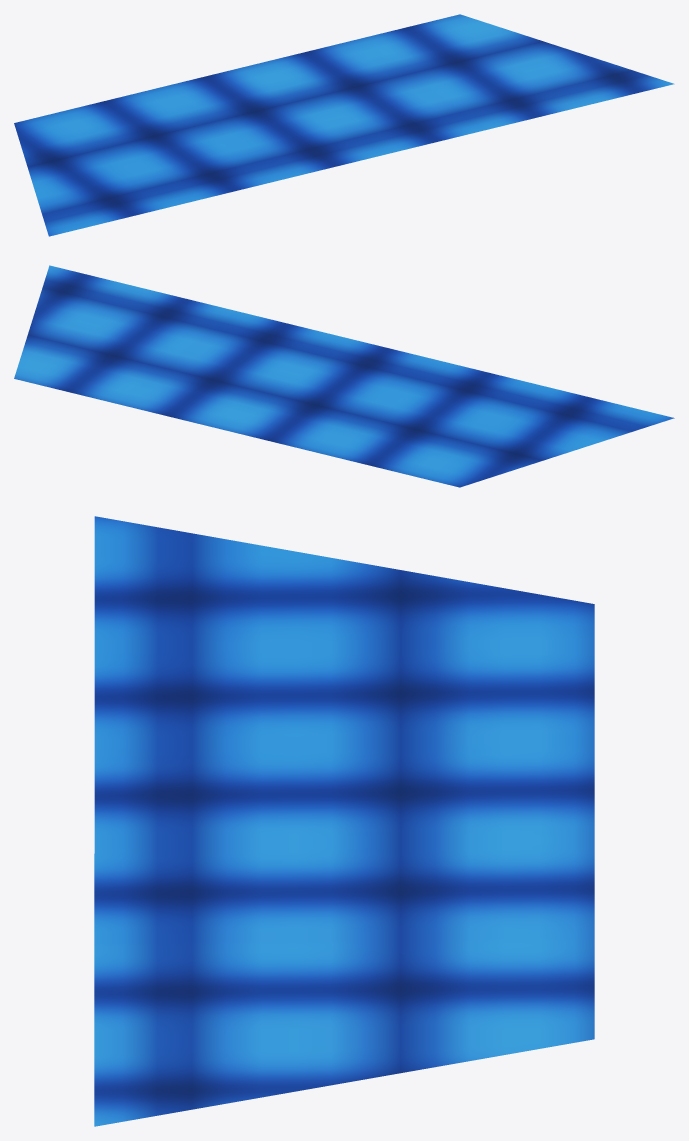
The model's file is ARC0610031.fbx.
3 views of the same model, one above another, from view 1: azimuth 30°, elevation 25°; view 2: azimuth 150°, elevation 25°; view 3: azimuth 270°, elevation 25° (orthographic). The views are drawn at different scales.
Visible parts, largest first — view 1: smARC0610031; view 2: smARC0610031; view 3: smARC0610031.
Boxes of the visible parts, bbox=[...] form: smARC0610031: bbox=[14, 14, 674, 236]; smARC0610031: bbox=[14, 265, 674, 487]; smARC0610031: bbox=[94, 516, 594, 1126].
Size of the model in its own units: 2405 by 0.000244 by 833.
Materials: 1 (1 with a texture image).
